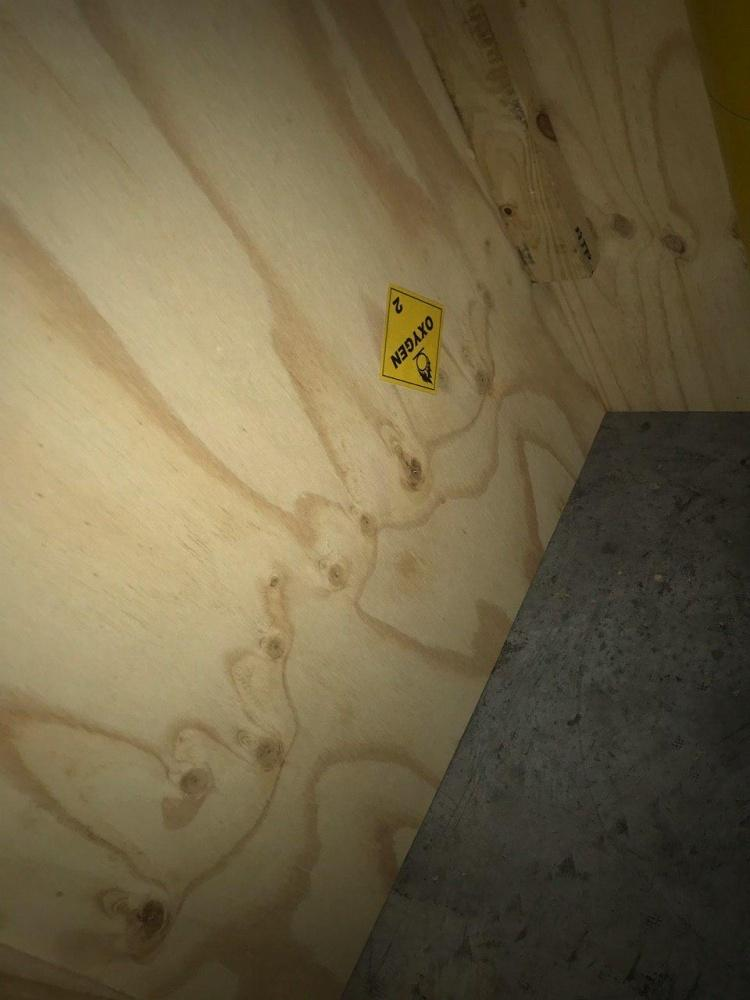oxidizer: (379, 287, 448, 396)
